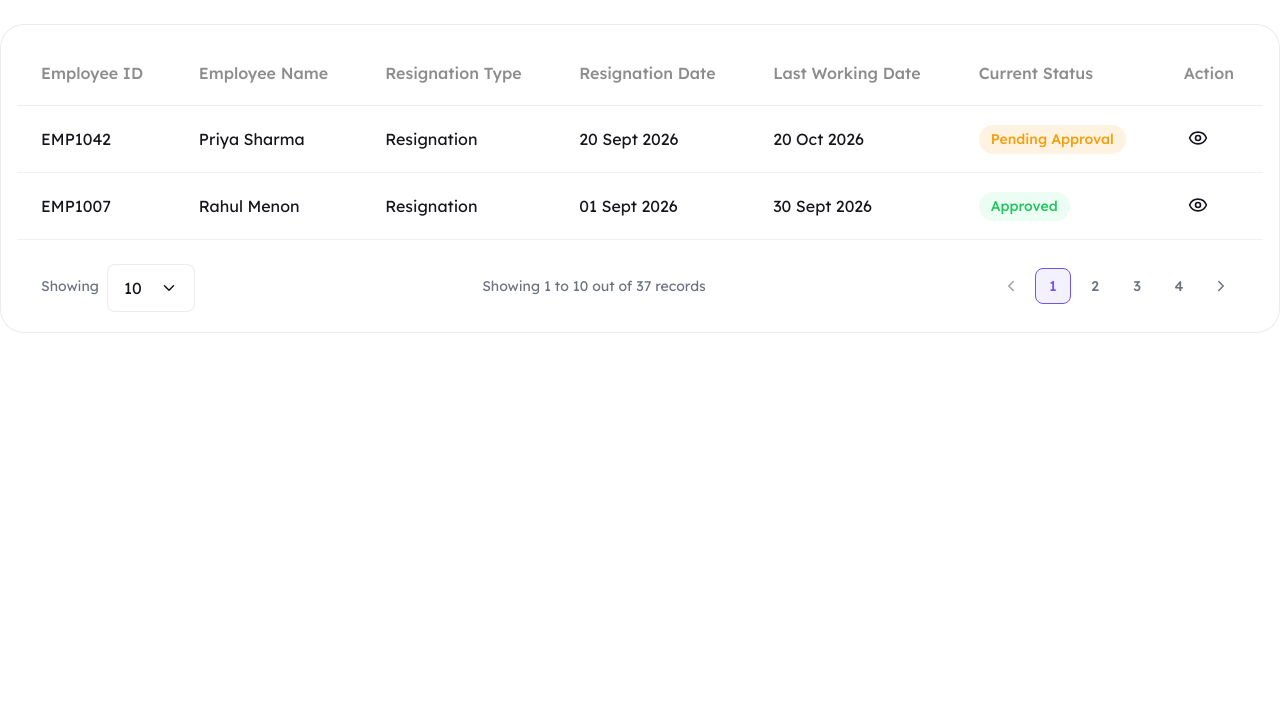
Test: SeparationsDashboard › details drawer › fills in the reason and notes once the read lands
The width and height of the screenshot is (1280, 720).
What coordinates should you click on to do the following:
click the button named "View separation details"
I would click on:
 (1198, 138)
Its box is [1184,124,1212,152].
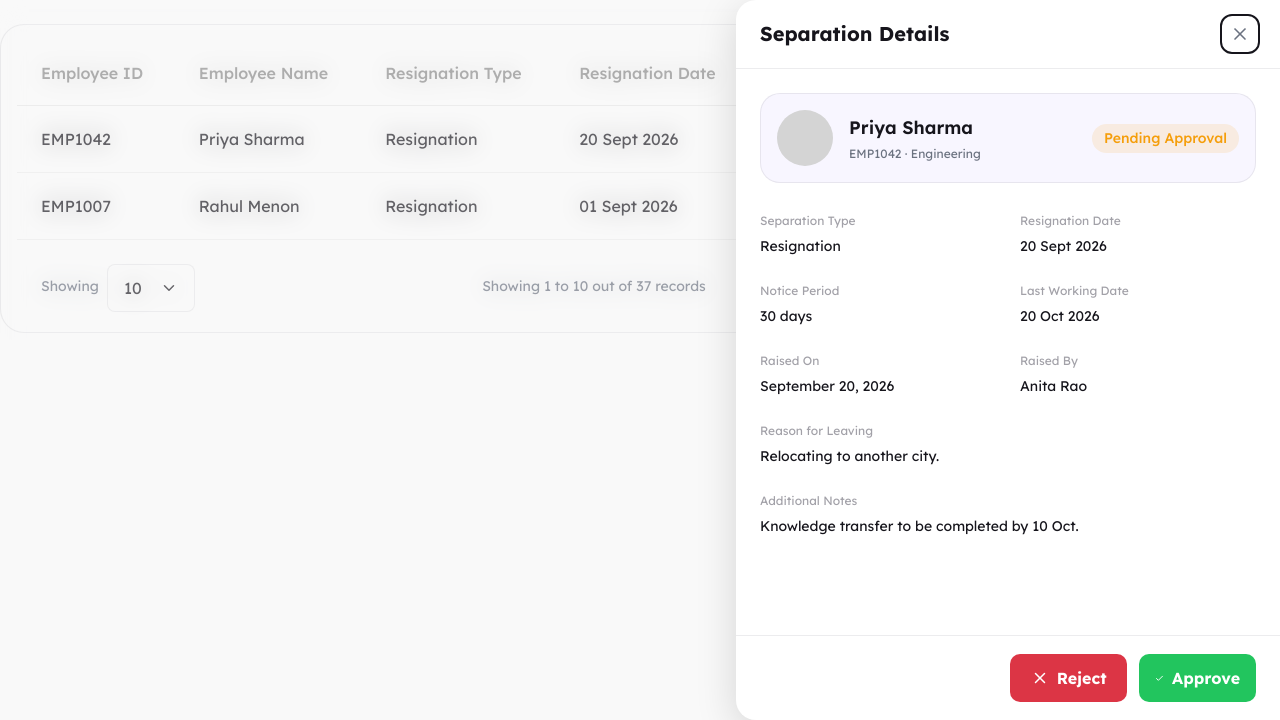
Result: the text "Relocating to another city." is shown at [760,447,939,465]
Result: the text "Knowledge transfer to be completed by 10 Oct." is shown at [760,517,1079,535]
Result: the text "Anita Rao" is shown at [1020,377,1087,395]
